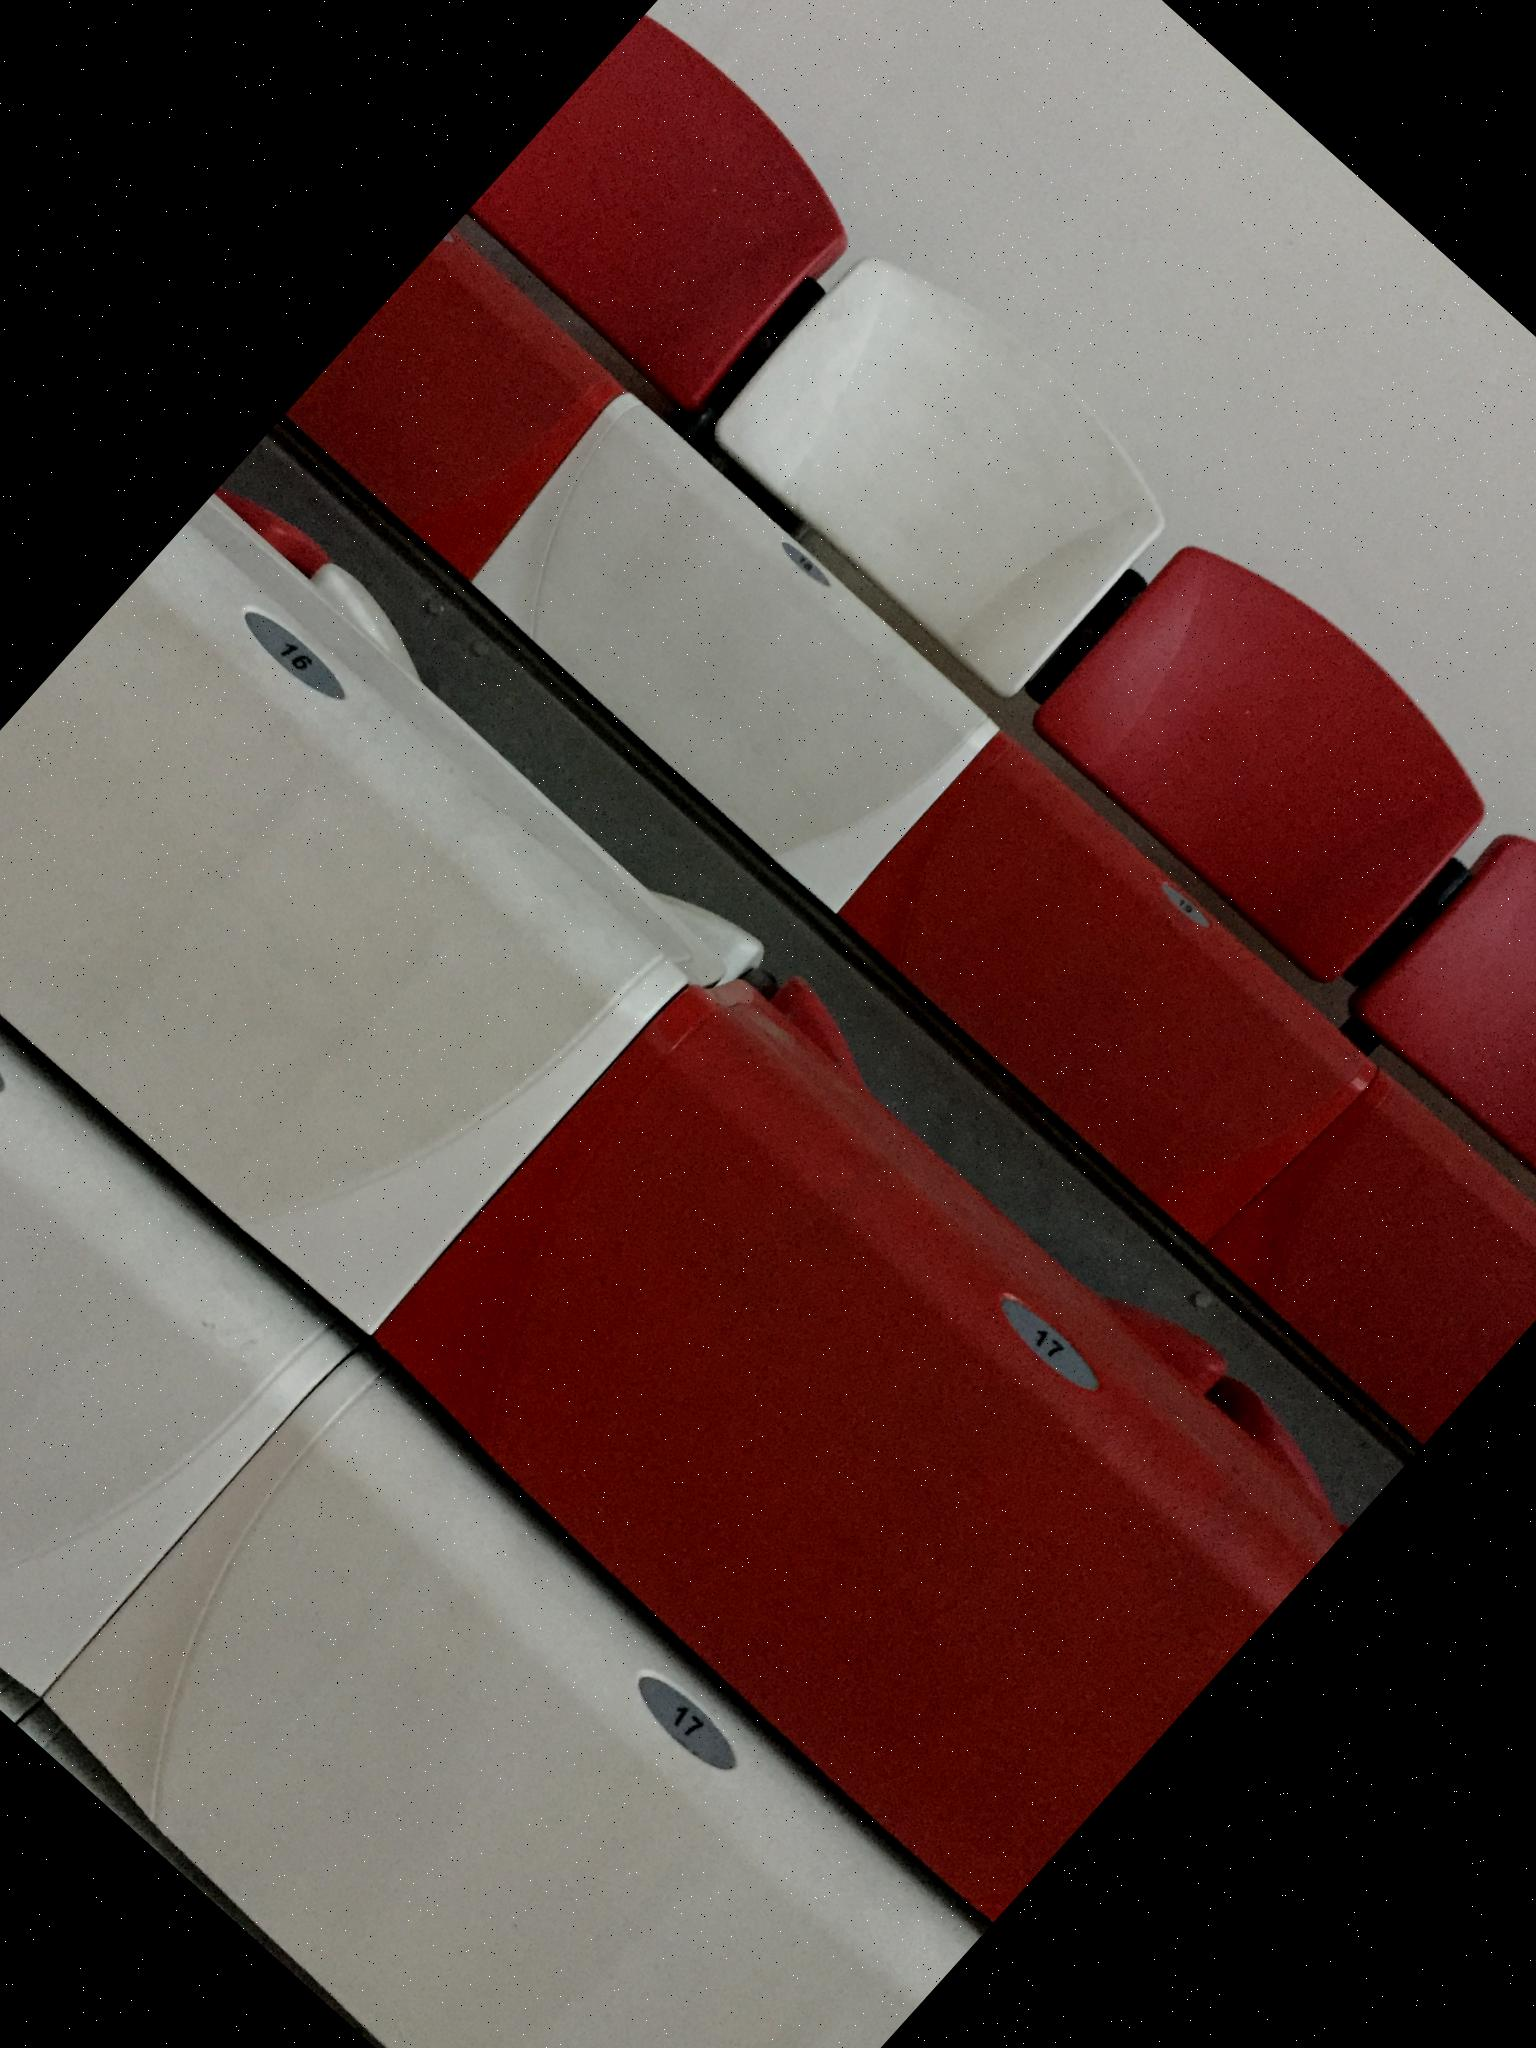chair: (384, 953, 1371, 1921), (0, 482, 723, 1366), (61, 1380, 984, 2048), (826, 532, 1528, 1250), (563, 237, 1215, 901), (245, 0, 887, 663), (0, 906, 332, 1695), (1167, 842, 1536, 1461)
